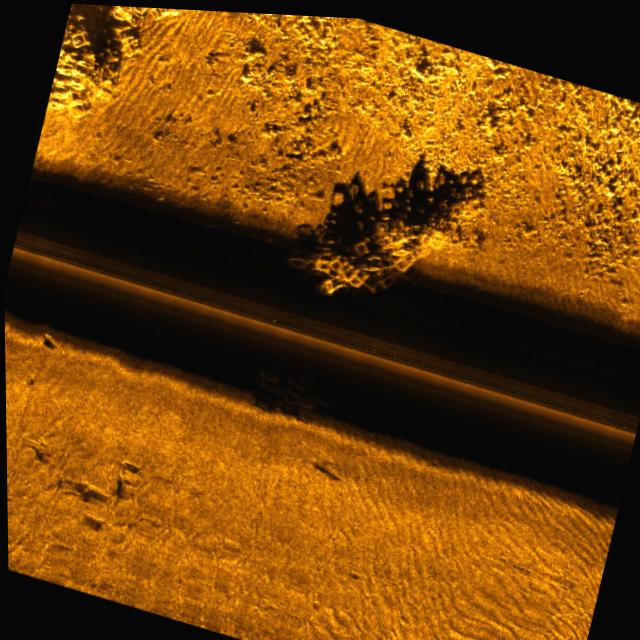artificial reef: (265, 106, 514, 345), (45, 2, 218, 143), (234, 348, 349, 425)
